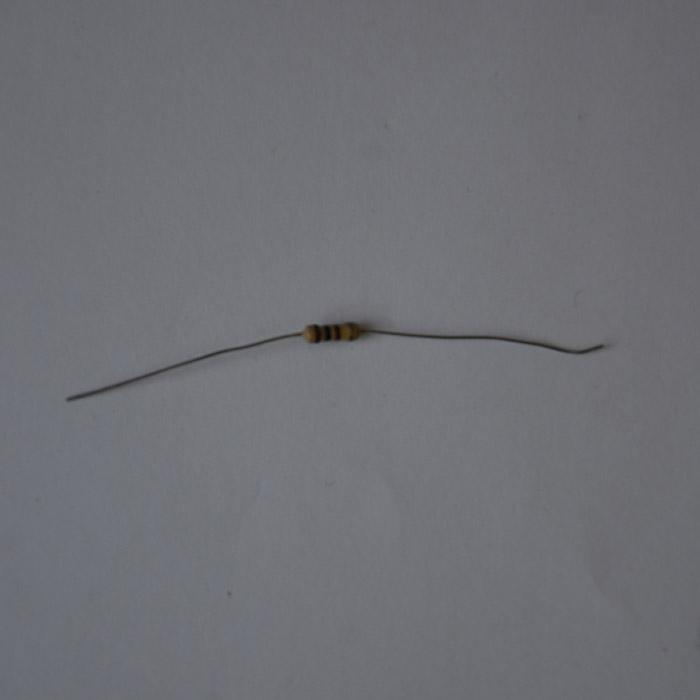resistor: (303, 321, 360, 342)
